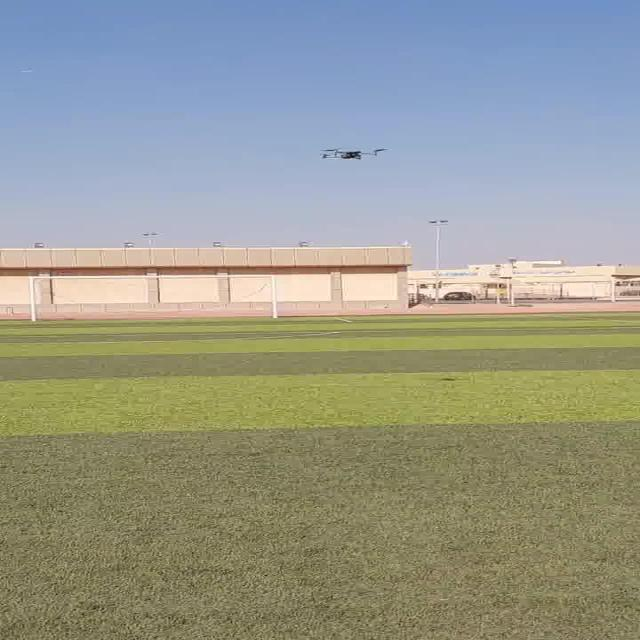drone: (309, 140, 392, 167)
